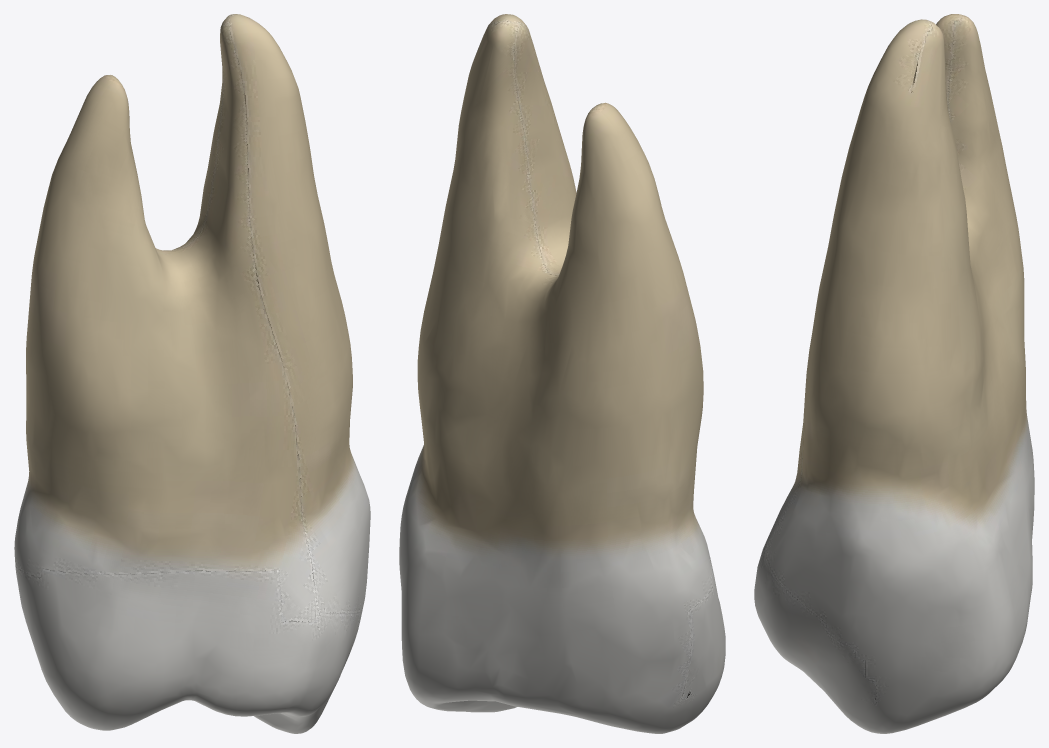
Rendered from maxillary_first_premolar.glb.
3 views of the same model, side by side, from view 1: azimuth 30°, elevation 25°; view 2: azimuth 150°, elevation 25°; view 3: azimuth 270°, elevation 25° (orthographic). The views are drawn at different scales.
Visible parts, largest first — view 1: Object_3; view 2: Object_3; view 3: Object_3.
Part boxes in pixels (x1,y1,x2,y2): Object_3: (14,14,370,733); Object_3: (399,14,725,733); Object_3: (754,14,1034,733).
Size of the model in its own units: 0.3954 by 0.8624 by 0.3158.
1 material, 1 textured.
